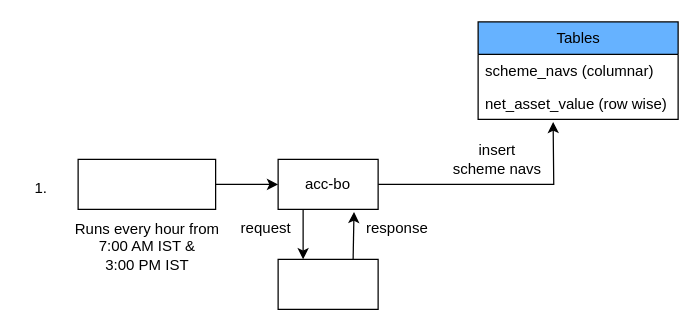
Image size: 700x331. Some labels were removed from this diagram. The shapes that lost their labels are listed below. From the top down, each one's centre as x and y in pixels, then its label:
(146,183): Kestra job load_scheme_navs
(327,283): amfiindia
